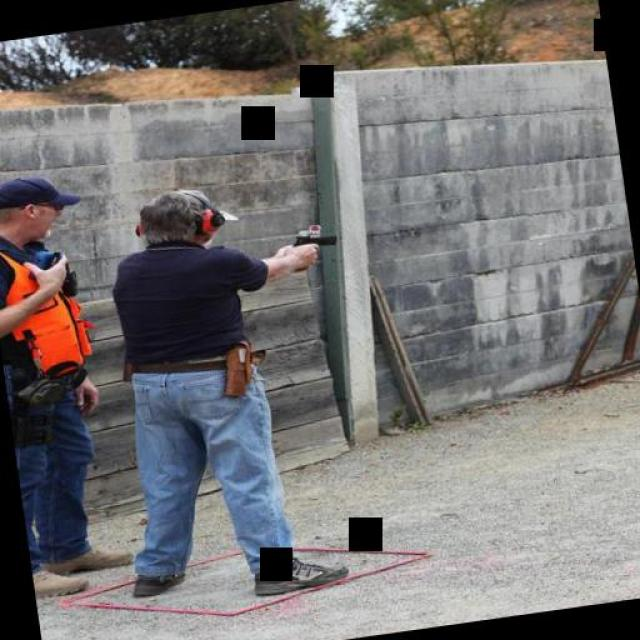gun: (282, 217, 344, 265)
